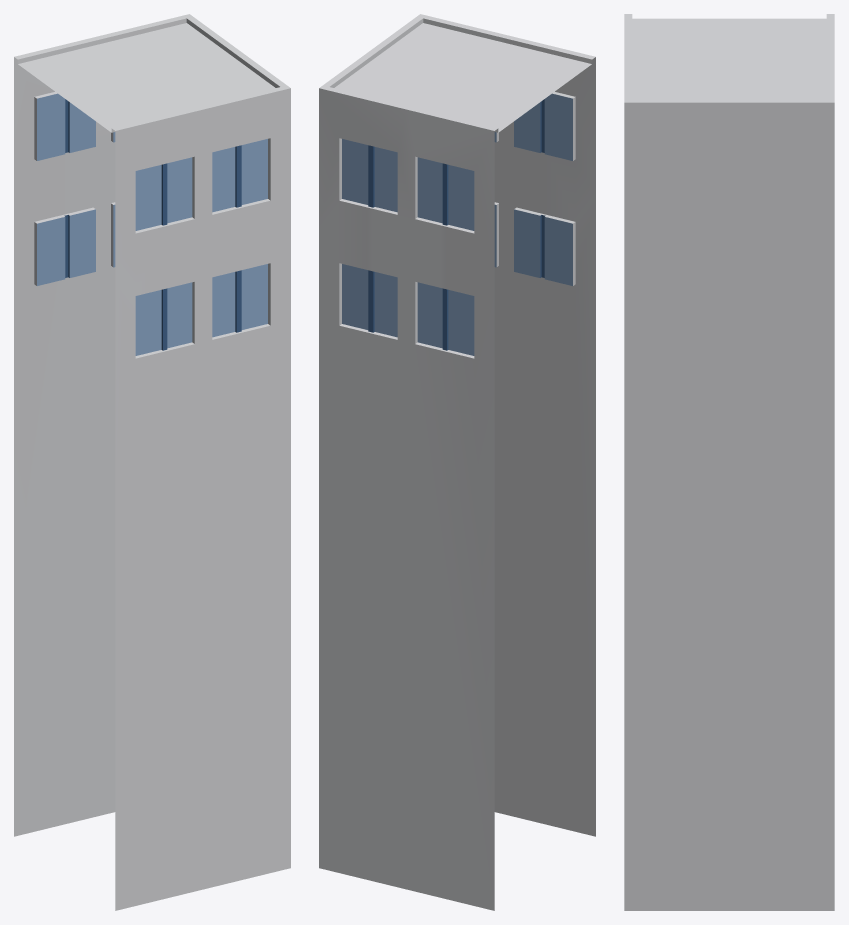
The model's file is Edge.fbx.
3 renders of one model, left to right at view 1: azimuth 30°, elevation 25°; view 2: azimuth 150°, elevation 25°; view 3: azimuth 270°, elevation 25°, orthographic. The views are drawn at different scales.
Parts seen in each view (by area): view 1: Edge; view 2: Edge; view 3: Edge.
Part boxes in pixels (bbox=[...]): Edge: bbox=[14, 14, 290, 910]; Edge: bbox=[319, 14, 595, 910]; Edge: bbox=[624, 14, 834, 910].
Size of the model in its own units: 615 by 2612 by 615.
1 material, 1 textured.
